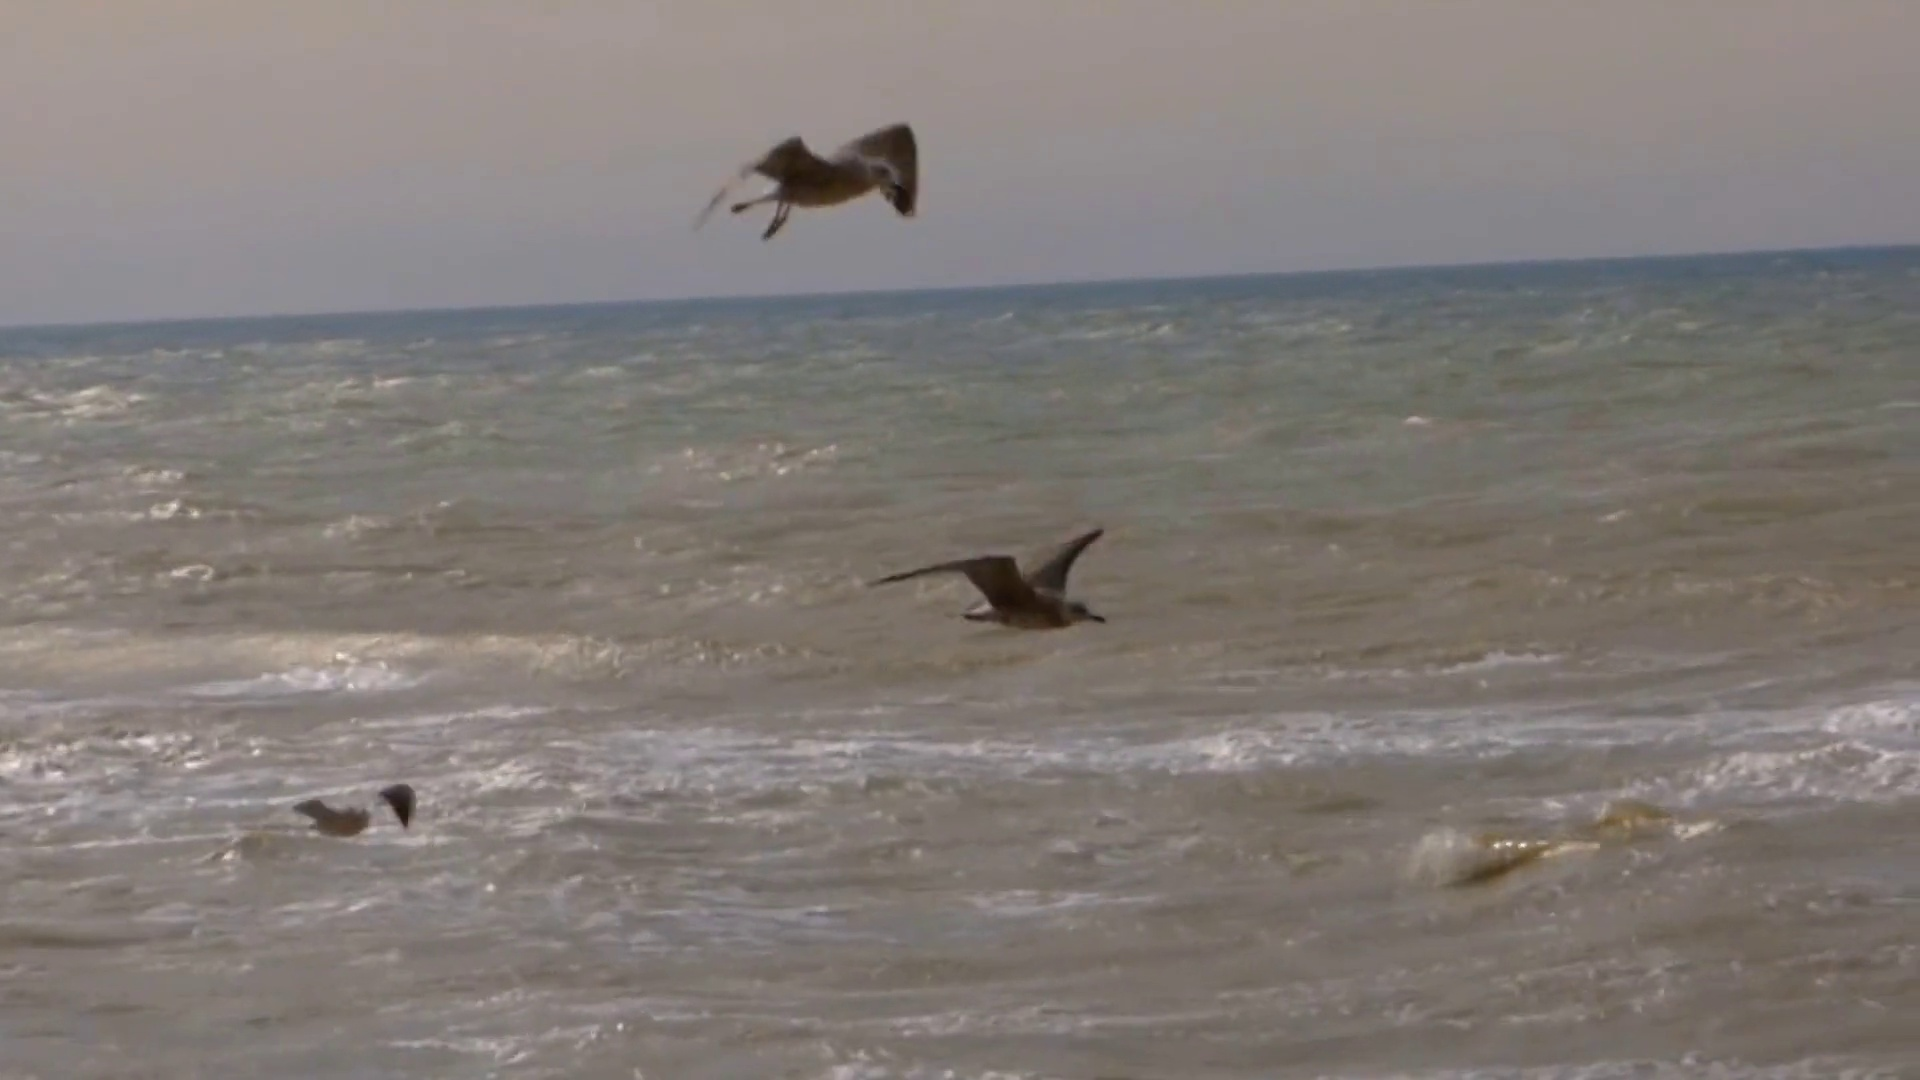bird: (698, 121, 919, 239), (865, 525, 1106, 628)
